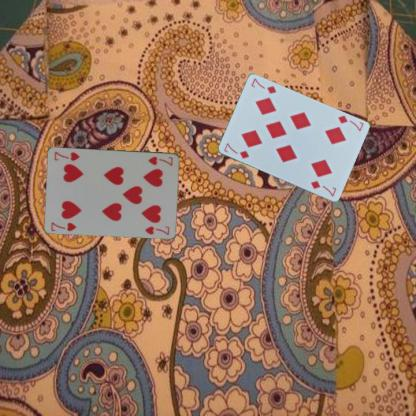7d: (221, 140, 250, 160), (335, 113, 365, 132)
7h: (146, 154, 174, 167), (48, 220, 78, 232)
